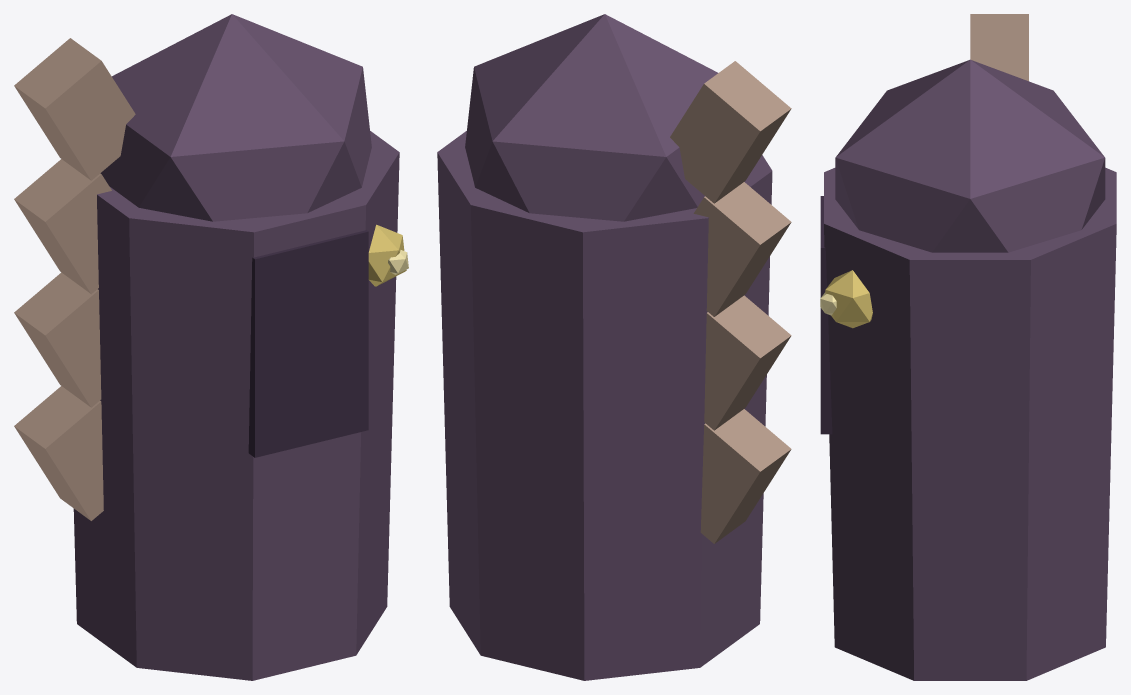
Rendered from inf_brute_lower_arm_l.fbx.
The picture shows the model from 3 angles, left to right: view 1: azimuth 30°, elevation 25°; view 2: azimuth 150°, elevation 25°; view 3: azimuth 270°, elevation 25°; orthographic projection. The views are drawn at different scales.
Parts seen in each view (by area): view 1: inf_brute_lower_arm_l; view 2: inf_brute_lower_arm_l; view 3: inf_brute_lower_arm_l.
Boxes of the visible parts, x1,y1,x2,y2 form: inf_brute_lower_arm_l: (14, 14, 408, 680); inf_brute_lower_arm_l: (437, 14, 791, 680); inf_brute_lower_arm_l: (820, 14, 1116, 680).
Bounding box in the file's own units: 119 × 212 × 101.
